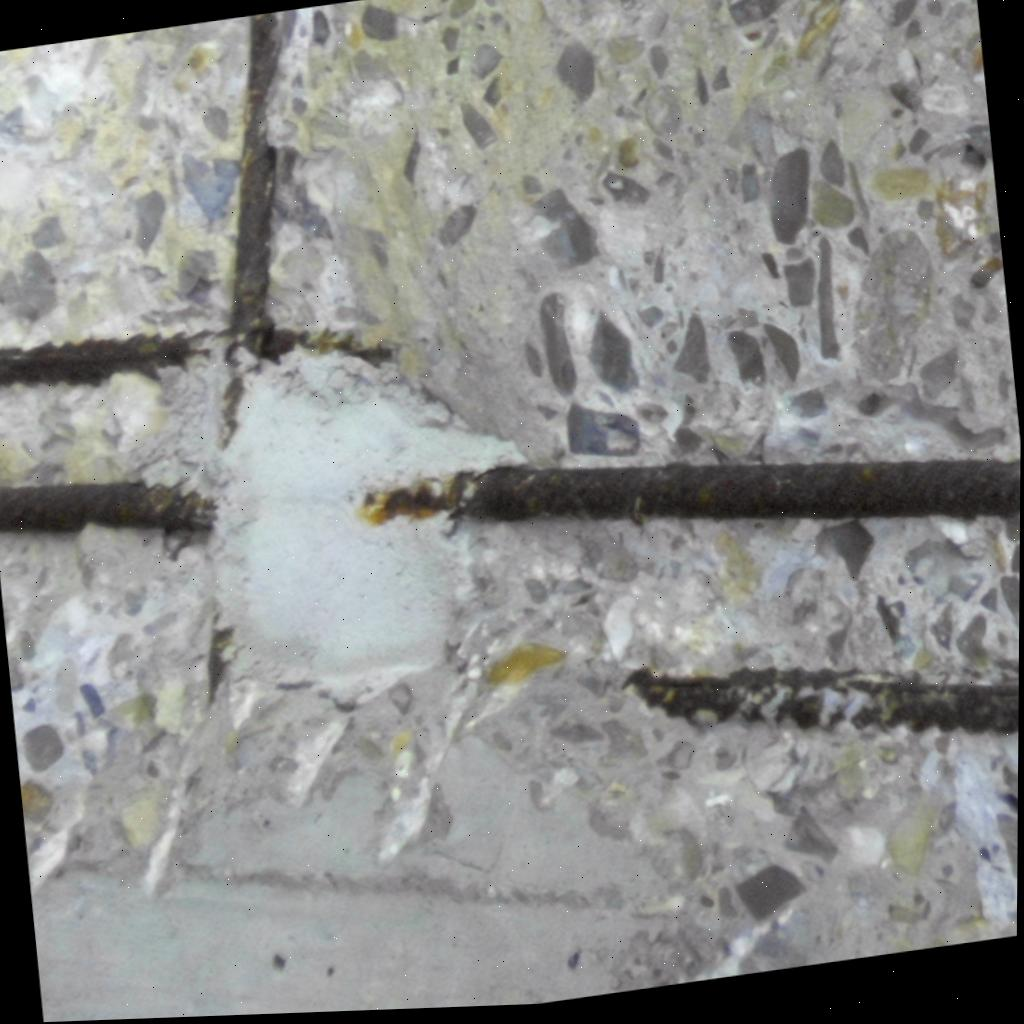exposed_rebar: (228, 12, 390, 360), (447, 459, 1020, 521), (624, 666, 1019, 733), (0, 481, 216, 532), (0, 333, 193, 386)
